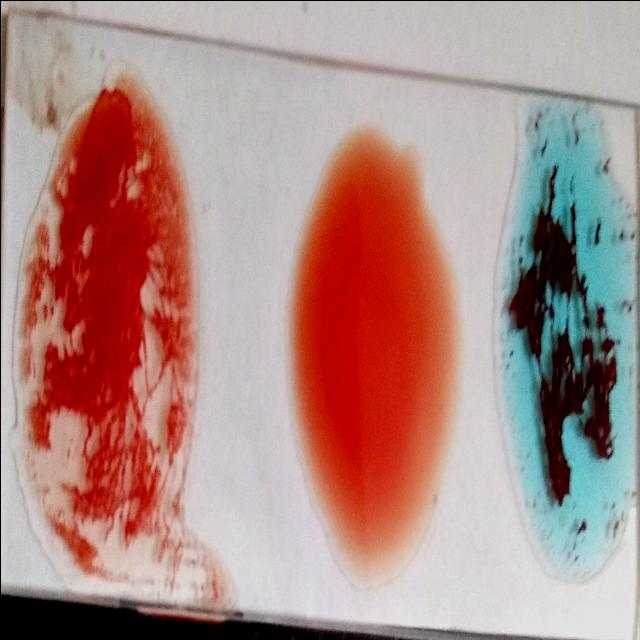A: (487, 108, 639, 566)
D: (11, 78, 191, 580)
